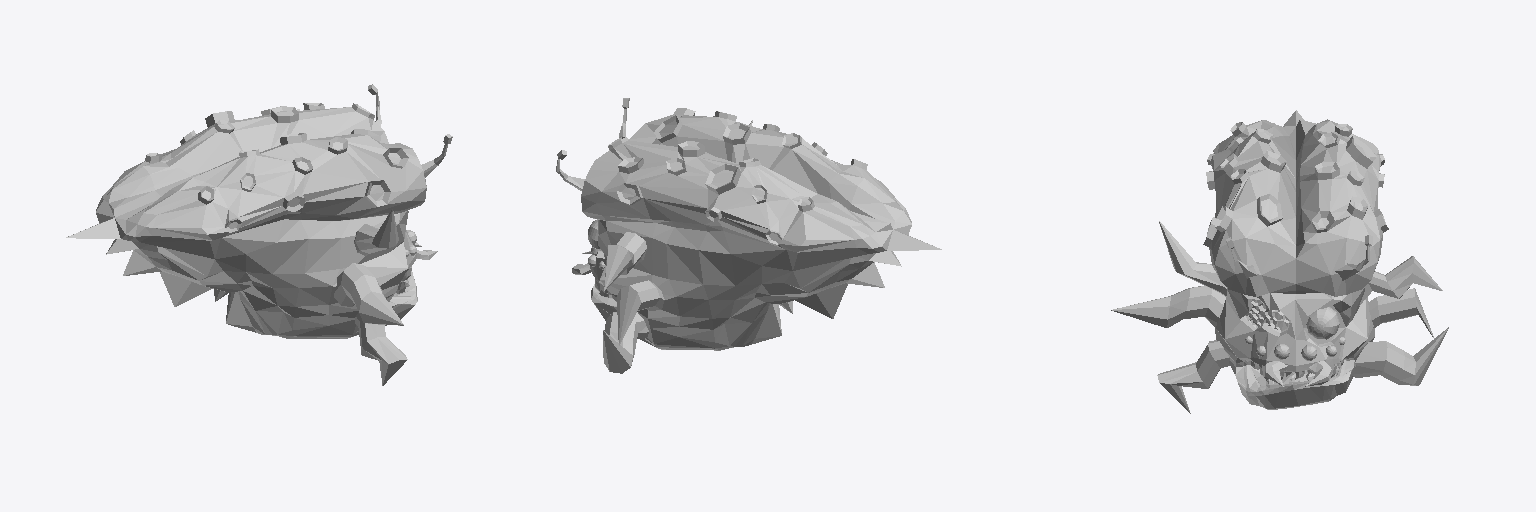
The model's file is Hivemind_3.obj.
The picture shows the model from 3 angles: view 1: azimuth 30°, elevation 25°; view 2: azimuth 150°, elevation 25°; view 3: azimuth 270°, elevation 25°; orthographic projection.
Visible parts, largest first — view 1: Face_Cube.001; view 2: Face_Cube.001; view 3: Face_Cube.001, Large_Eye_Sphere.
Boxes of the visible parts, x1,y1,x2,y2 form: Face_Cube.001: [66, 84, 452, 385]; Face_Cube.001: [556, 98, 941, 373]; Face_Cube.001: [1111, 110, 1448, 413]; Large_Eye_Sphere: [1306, 307, 1339, 339].
Size of the model in its own units: 5.9 by 3.62 by 4.72.